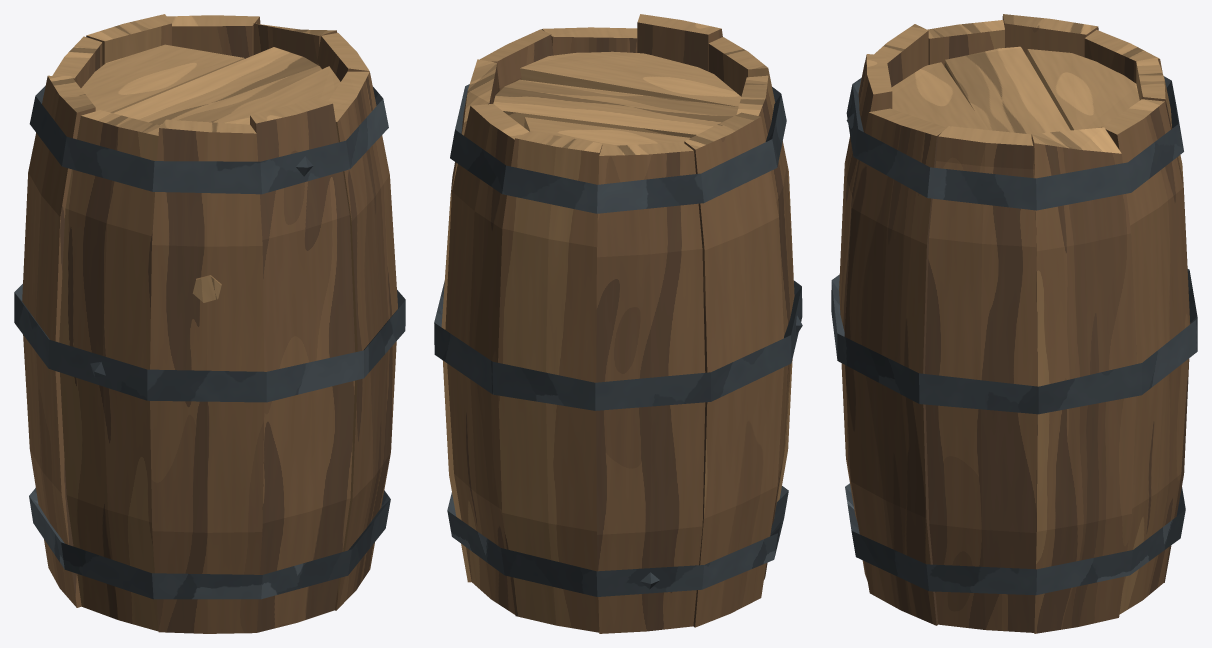
File: SM_WoodenBarrel.fbx
3 views of the same model, side by side, from view 1: azimuth 30°, elevation 25°; view 2: azimuth 150°, elevation 25°; view 3: azimuth 270°, elevation 25° (orthographic). The views are drawn at different scales.
Parts seen in each view (by area): view 1: SM_WoodenBarrel; view 2: SM_WoodenBarrel; view 3: SM_WoodenBarrel.
Part boxes in pixels (bbox=[...]): SM_WoodenBarrel: bbox=[14, 14, 405, 633]; SM_WoodenBarrel: bbox=[434, 14, 802, 633]; SM_WoodenBarrel: bbox=[831, 14, 1197, 633].
Size of the model in its own units: 0.6171 by 0.89 by 0.5912.
